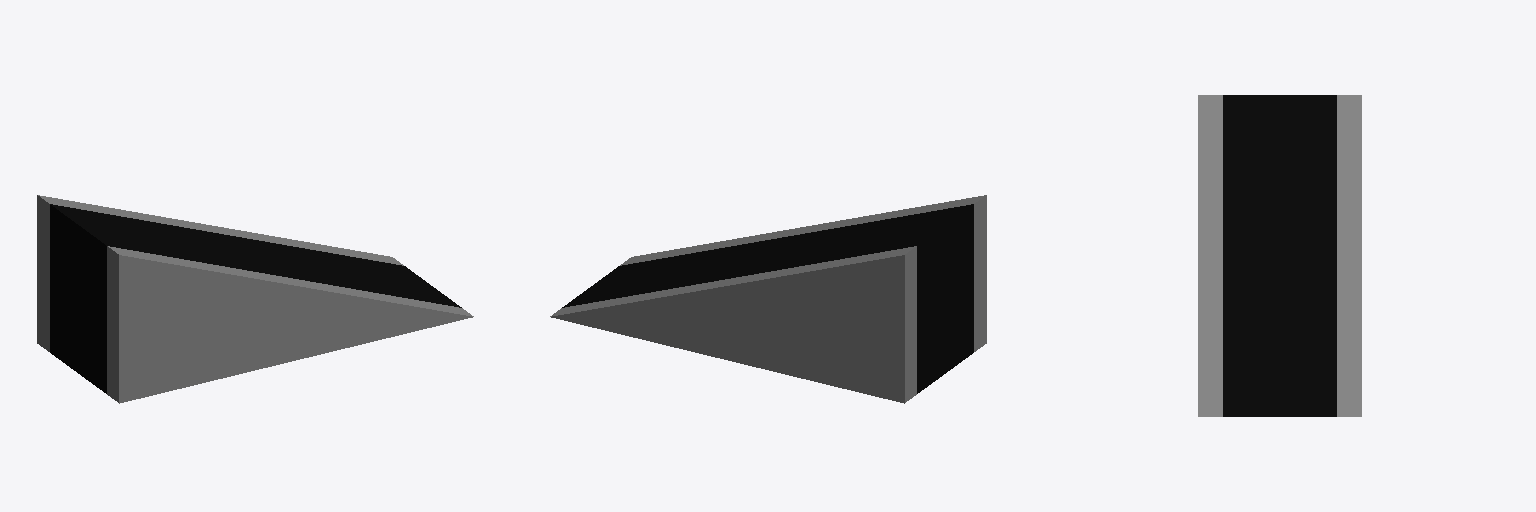
3 views of the same model, side by side, from view 1: azimuth 30°, elevation 25°; view 2: azimuth 150°, elevation 25°; view 3: azimuth 270°, elevation 25° (orthographic).
Visible parts, largest first — view 1: Ramp.002_Cube.016; view 2: Ramp.002_Cube.016; view 3: Ramp.002_Cube.016.
Part boxes in pixels (left/top/right/bottom): Ramp.002_Cube.016: left=37, top=195, right=473, bottom=403; Ramp.002_Cube.016: left=550, top=195, right=986, bottom=403; Ramp.002_Cube.016: left=1198, top=95, right=1361, bottom=416.
Bounding box in the file's own units: 7.28 × 2.91 × 2.91.
Materials: 1 (1 with a texture image).